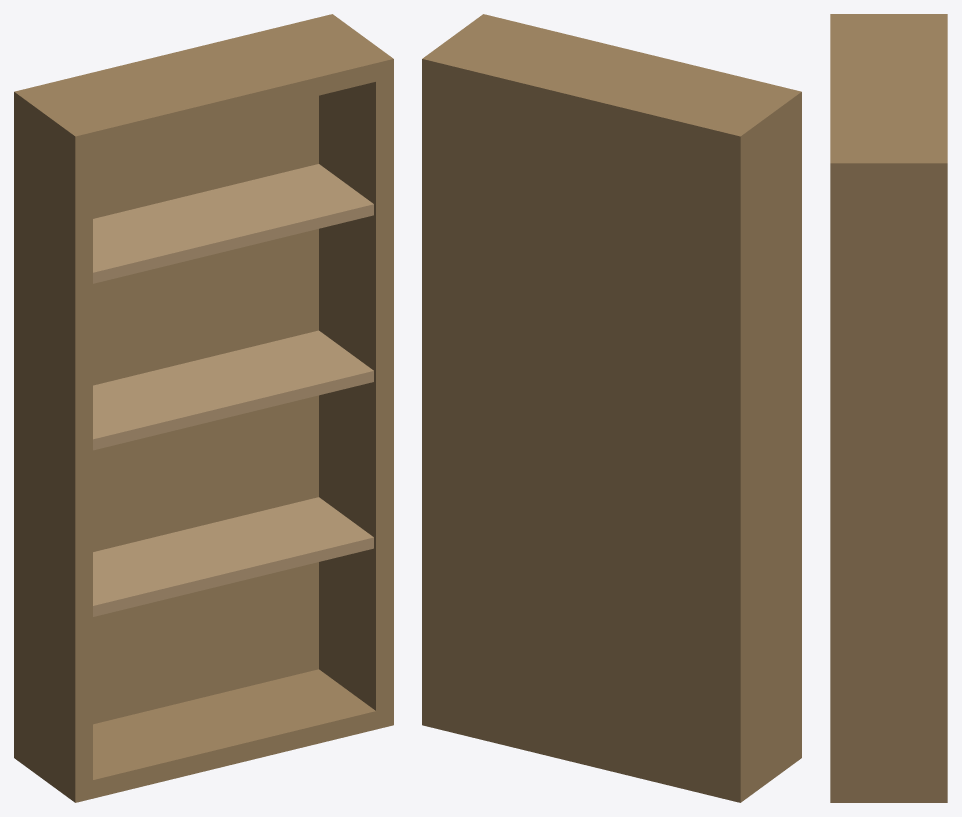
Rendered from bookshelf.glb.
3 views of the same model, side by side, from view 1: azimuth 30°, elevation 25°; view 2: azimuth 150°, elevation 25°; view 3: azimuth 270°, elevation 25° (orthographic). The views are drawn at different scales.
Visible parts, largest first — view 1: back, left_side, right_side, top, bottom, shelf_1, shelf_0, shelf_2; view 2: back, left_side, top, right_side, bottom; view 3: right_side, top, back, left_side.
Part boxes in pixels (left/top/right/bottom): back: left=14, top=15, right=332, bottom=750; left_side: left=14, top=87, right=92, bottom=802; right_side: left=315, top=14, right=393, bottom=729; top: left=14, top=14, right=393, bottom=153; bottom: left=14, top=669, right=393, bottom=802; shelf_1: left=93, top=330, right=373, bottom=450; shelf_0: left=93, top=497, right=373, bottom=616; shelf_2: left=93, top=164, right=373, bottom=283; back: left=422, top=59, right=744, bottom=800; left_side: left=723, top=87, right=801, bottom=802; top: left=422, top=14, right=801, bottom=152; right_side: left=422, top=14, right=500, bottom=729; bottom: left=422, top=711, right=801, bottom=802; right_side: left=830, top=155, right=947, bottom=802; top: left=830, top=14, right=947, bottom=180; back: left=940, top=14, right=947, bottom=802; left_side: left=830, top=14, right=947, bottom=22.
Bounding box in the file's own units: 0.9 × 1.8 × 0.3.
